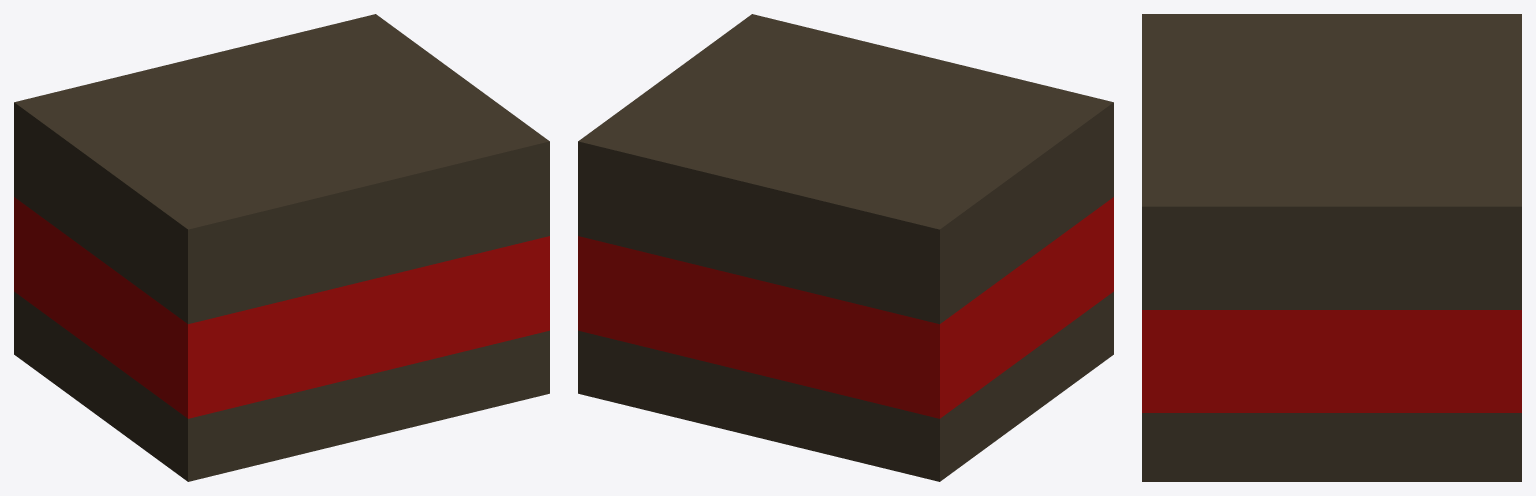
Rendered from shotshell_box.glb.
3 renders of one model, left to right at view 1: azimuth 30°, elevation 25°; view 2: azimuth 150°, elevation 25°; view 3: azimuth 270°, elevation 25°, orthographic. The views are drawn at different scales.
Parts seen in each view (by area): view 1: package:carton; view 2: package:carton; view 3: package:carton.
Boxes of the visible parts, <box> form: package:carton: <box>14,14,549,481</box>; package:carton: <box>578,14,1113,481</box>; package:carton: <box>1142,14,1521,481</box>.
Size of the model in its own units: 0.12 by 0.08 by 0.1.
